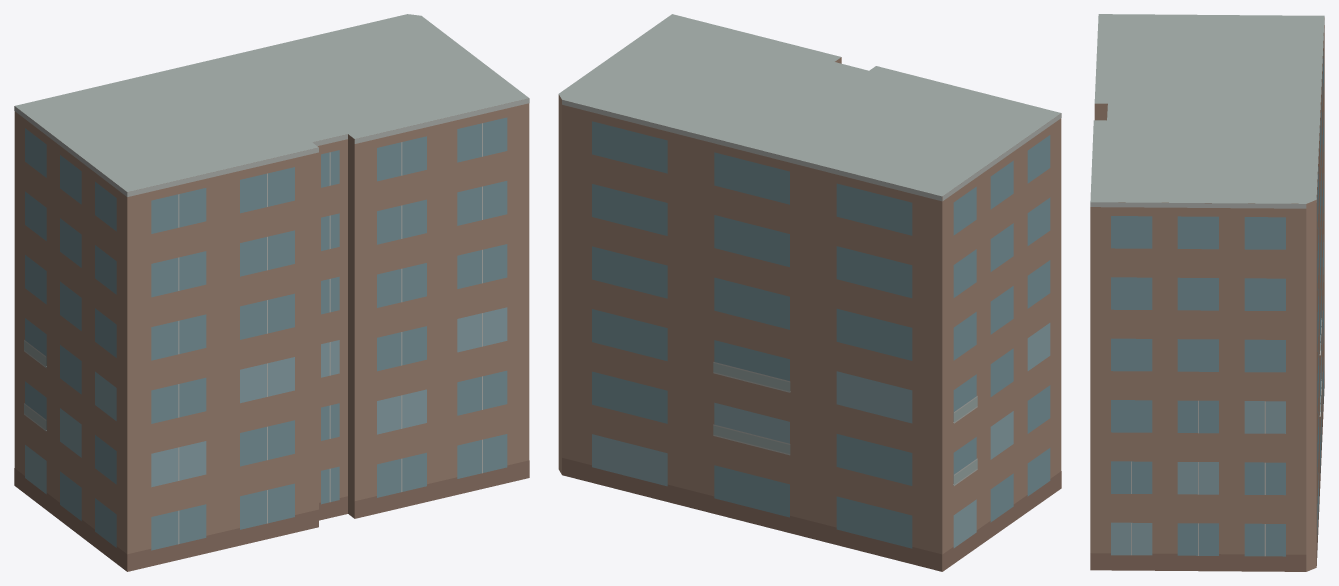
The model's file is survey-upis-32736201.glb.
3 views of the same model, side by side, from view 1: azimuth 30°, elevation 25°; view 2: azimuth 150°, elevation 25°; view 3: azimuth 270°, elevation 25° (orthographic). The views are drawn at different scales.
Visible parts, largest first — view 1: survey-upis-32736201.tmp; view 2: survey-upis-32736201.tmp; view 3: survey-upis-32736201.tmp.
Boxes of the visible parts, box(x1,y1,x2,y2) form: survey-upis-32736201.tmp: box(14, 14, 529, 571); survey-upis-32736201.tmp: box(558, 14, 1061, 571); survey-upis-32736201.tmp: box(1090, 14, 1324, 571).
Size of the model in its own units: 20.36 by 18.4 by 10.62.
